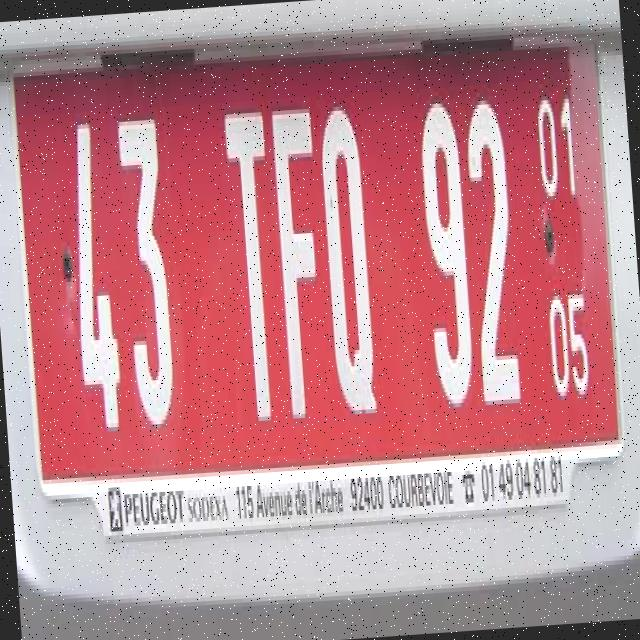Autre: (15, 45, 616, 479)
